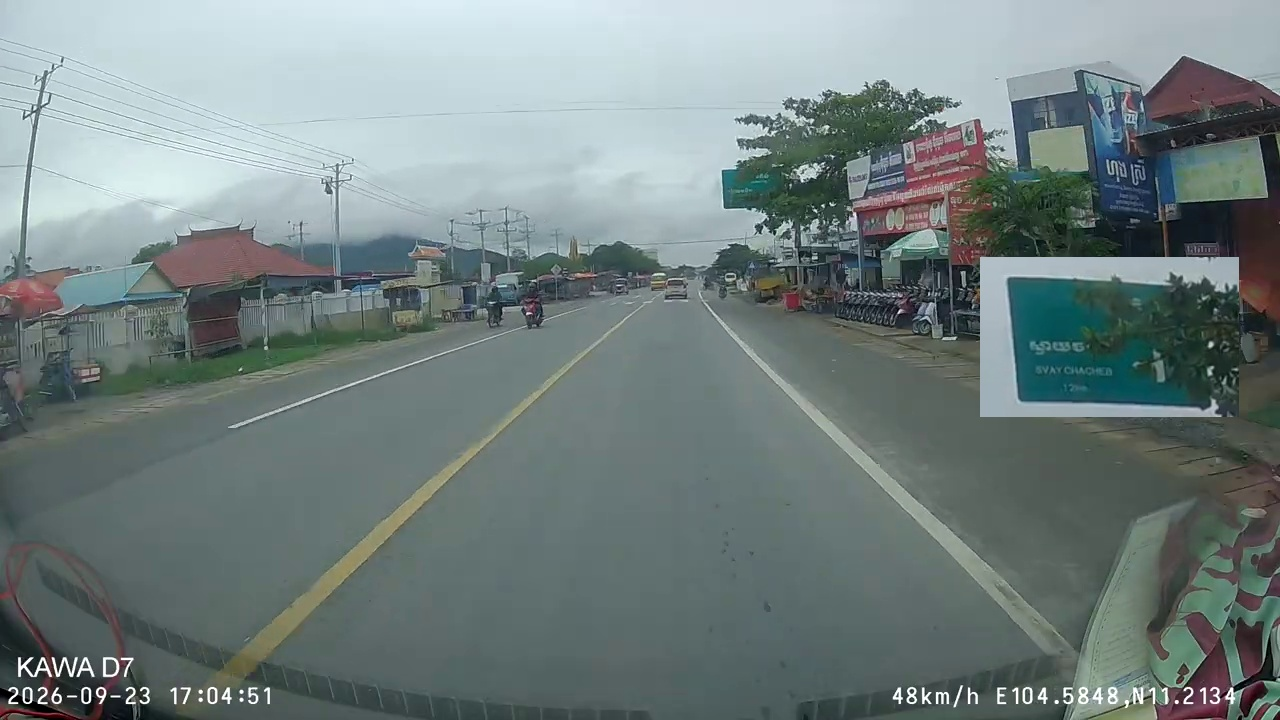direction_sign: (980, 257, 1239, 417)
